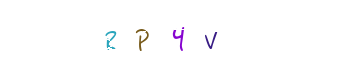4: (130, 0, 210, 80)
P: (102, 0, 182, 80)
R: (99, 0, 179, 80)
V: (151, 0, 231, 80)
